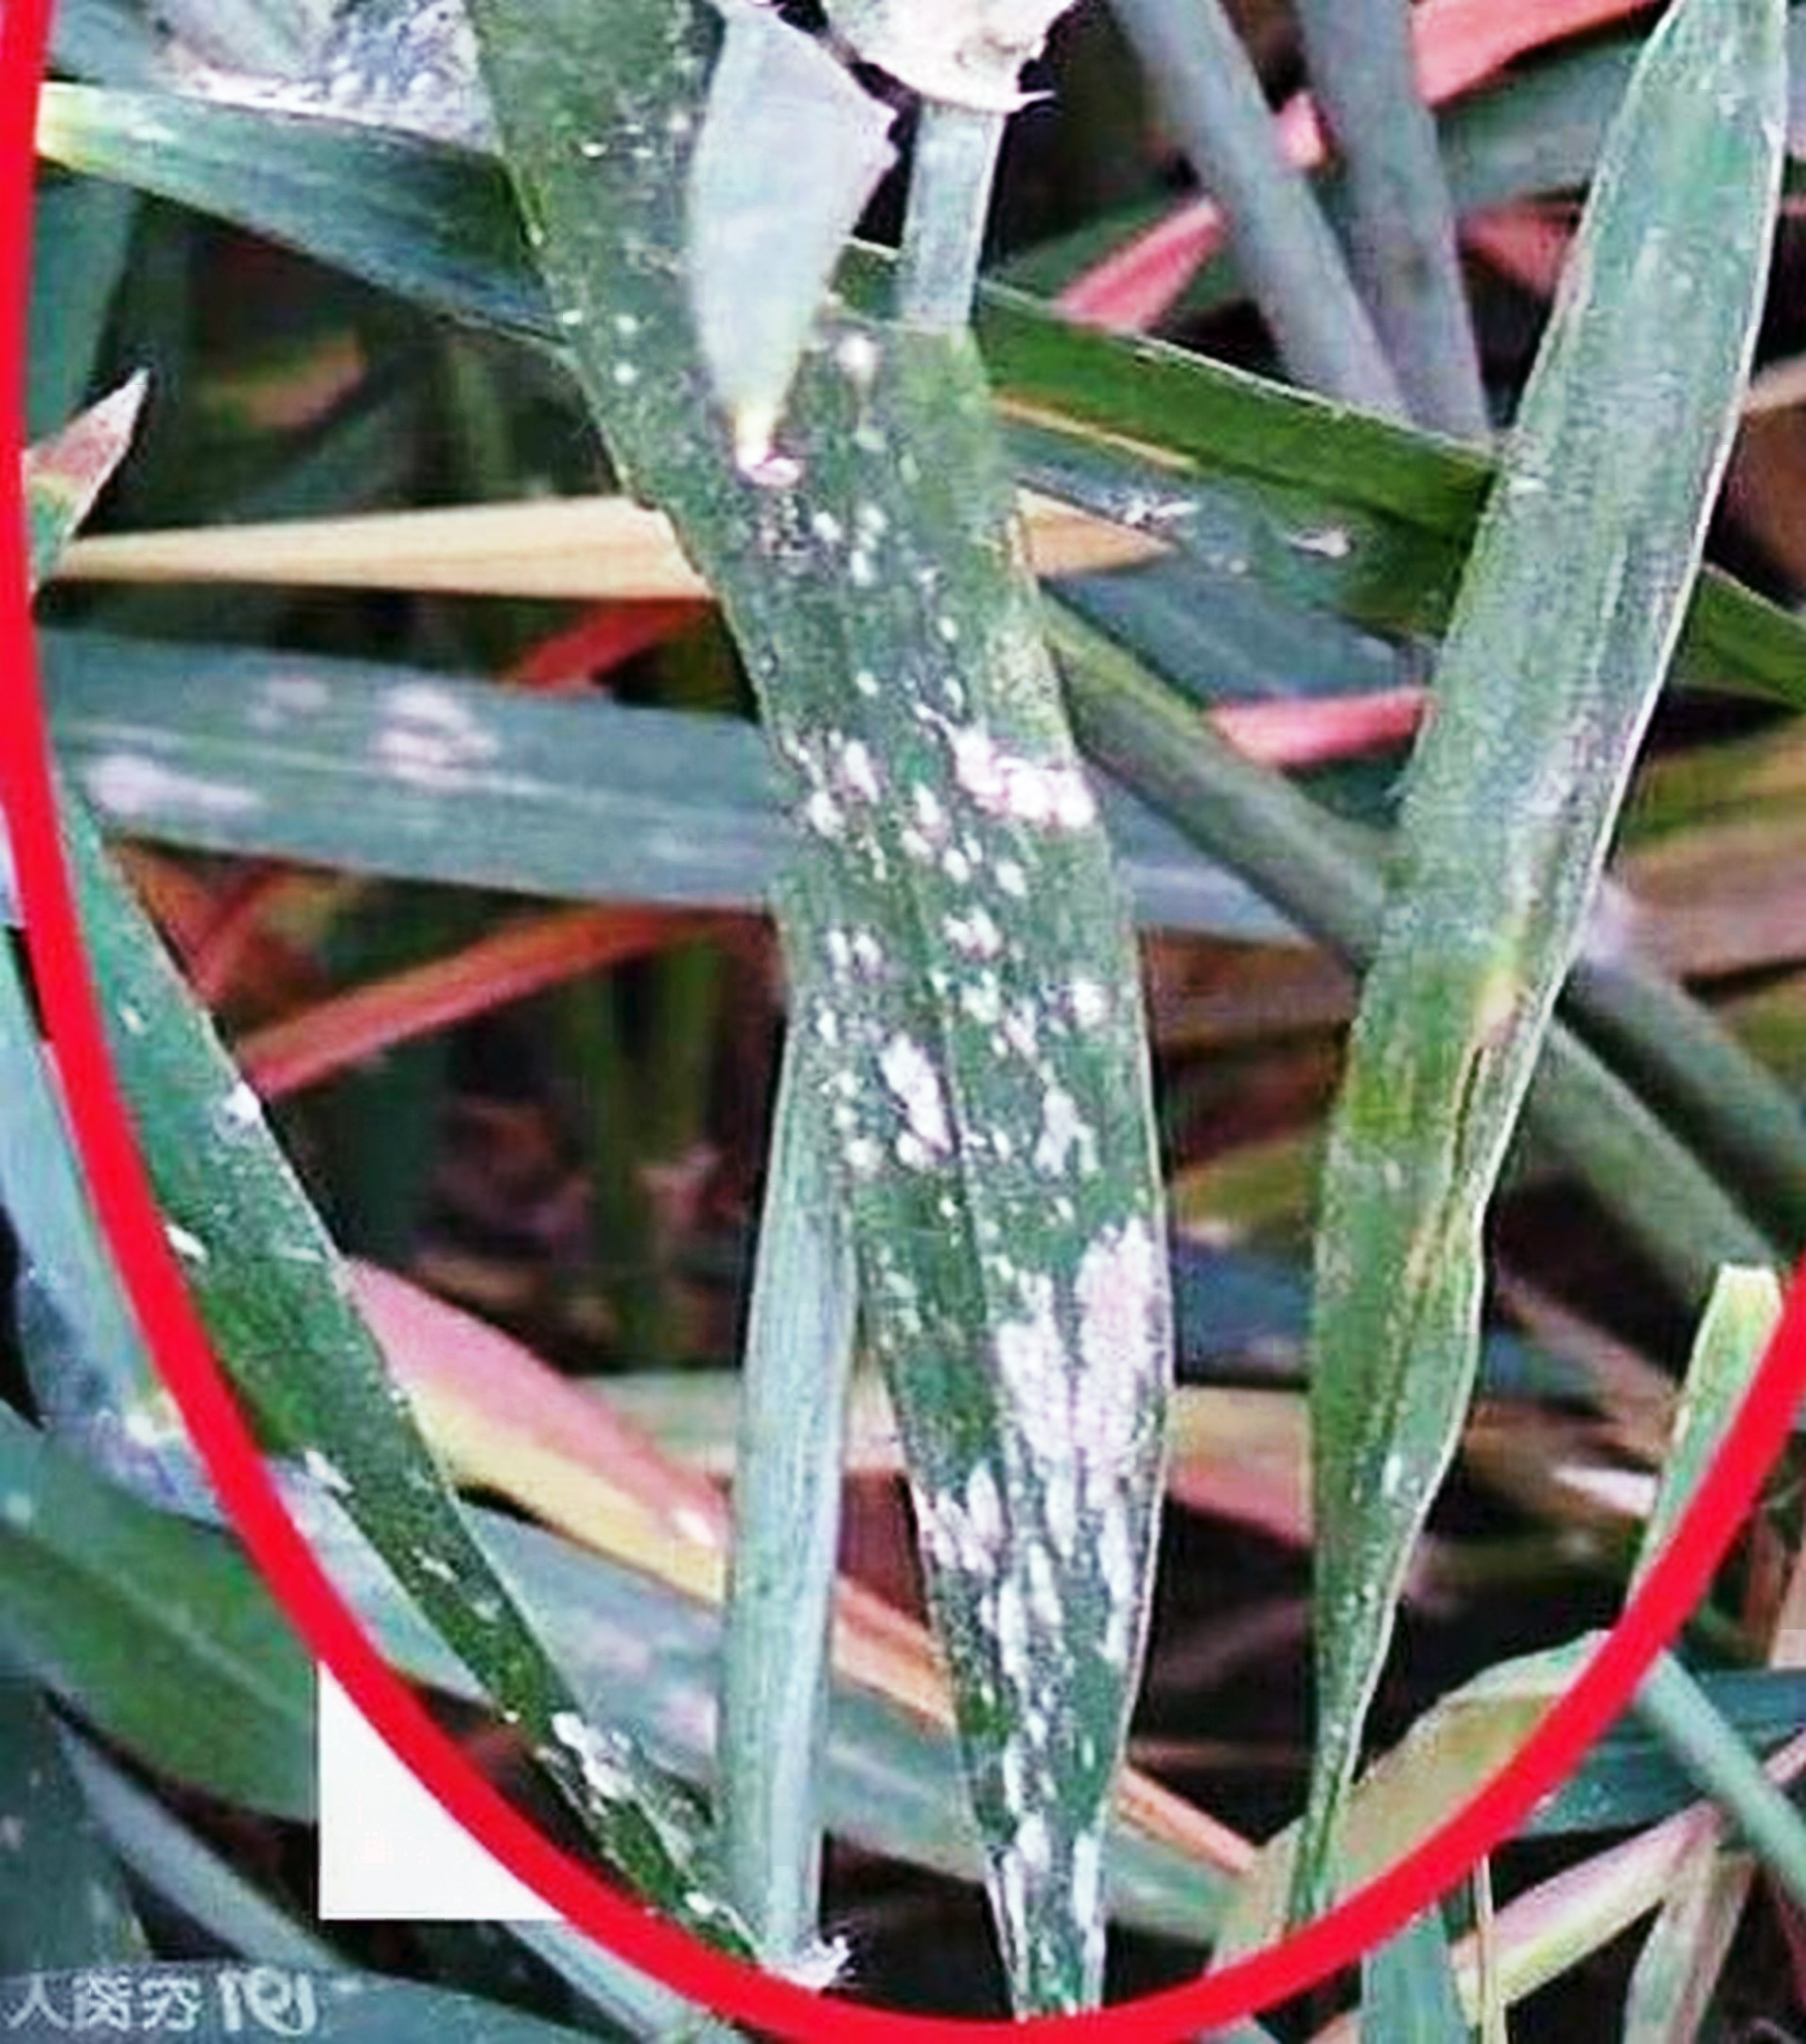Powdery Mildew: (748, 471, 1232, 1891)
